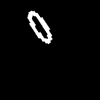chain: (28, 11, 51, 43)
